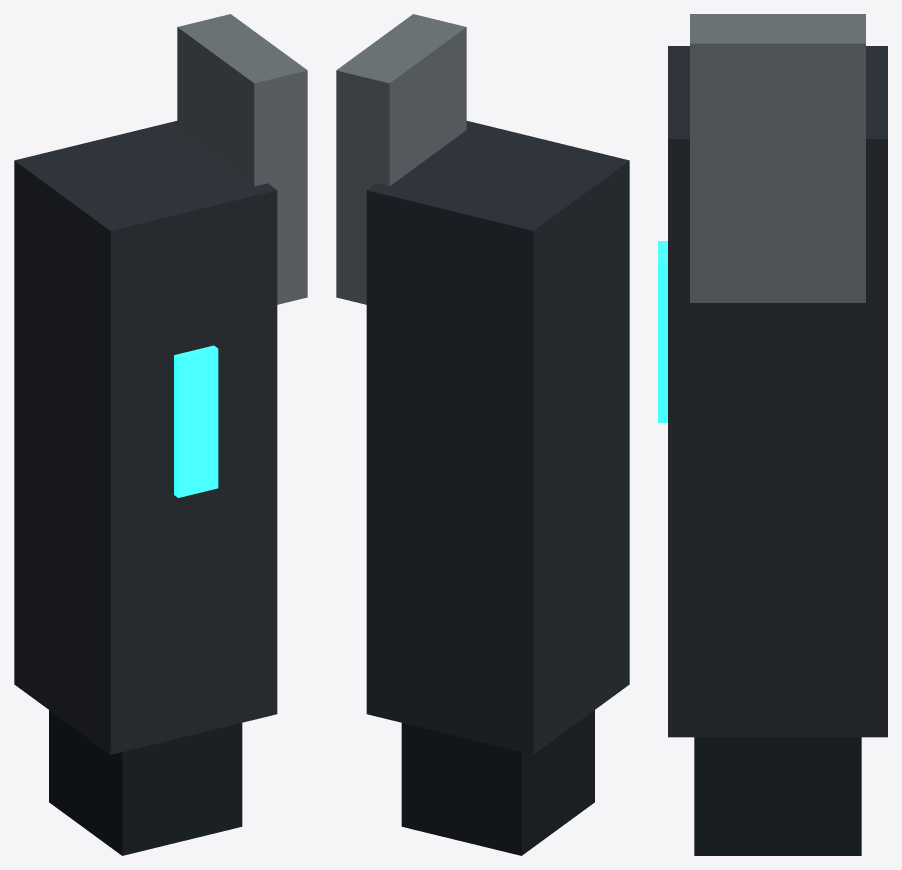
Rendered from recovery_tool.glb.
The picture shows the model from 3 angles, left to right: view 1: azimuth 30°, elevation 25°; view 2: azimuth 150°, elevation 25°; view 3: azimuth 270°, elevation 25°; orthographic projection. The views are drawn at different scales.
Parts seen in each view (by area): view 1: ToolBody, RecoveryJaw, Grip, ToolStatus; view 2: ToolBody, RecoveryJaw, Grip; view 3: ToolBody, RecoveryJaw, Grip, ToolStatus.
Part boxes in pixels (x1,y1,x2,y2): ToolBody: (14,121,277,754); RecoveryJaw: (177,14,307,304); Grip: (49,710,242,855); ToolStatus: (174,345,218,497); ToolBody: (366,121,629,754); RecoveryJaw: (336,14,466,304); Grip: (401,710,594,855); ToolBody: (668,46,887,737); RecoveryJaw: (690,14,865,302); Grip: (694,737,861,855); ToolStatus: (658,241,667,422).
Bounding box in the file's own units: 0.62 × 2.13 × 0.5225.
